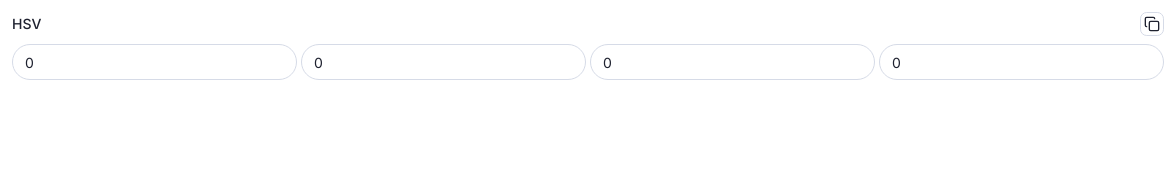
Test: <HSVInput /> › shows an error for channels outside the supported range
Replace the text in the number field with test id "hsv-input-h" with "-1": (154, 62) left=12, top=44, right=297, bottom=80
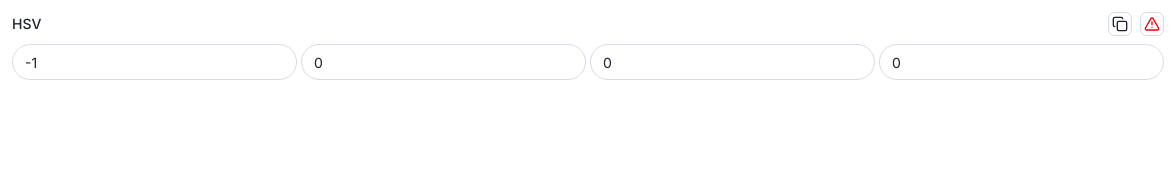
expect the button with test id "hex-error-btn" is shown: met, box left=1140, top=12, right=1164, bottom=36
